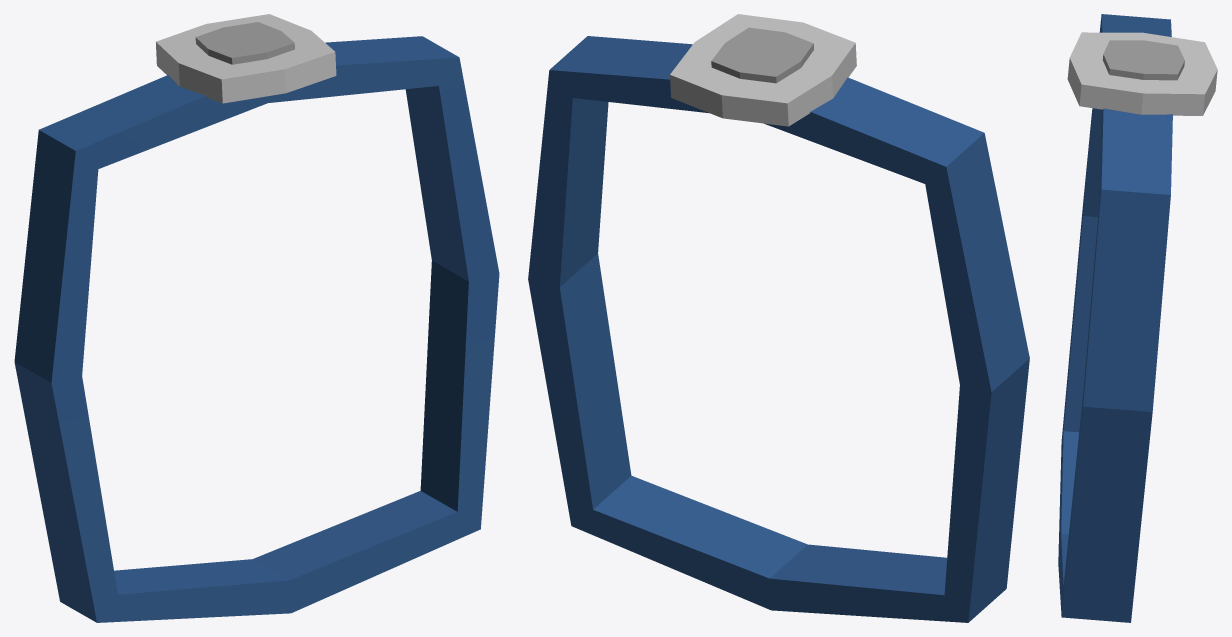
File: Head Mirror 01.FBX
The picture shows the model from 3 angles, left to right: view 1: azimuth 30°, elevation 25°; view 2: azimuth 150°, elevation 25°; view 3: azimuth 270°, elevation 25°; orthographic projection. The views are drawn at different scales.
Visible parts, largest first — view 1: Head Mirror 01; view 2: Head Mirror 01; view 3: Head Mirror 01.
Boxes of the visible parts, box(x1,y1,x2,y2) form: Head Mirror 01: box(14, 14, 499, 622); Head Mirror 01: box(528, 14, 1029, 622); Head Mirror 01: box(1058, 14, 1217, 622).
Size of the model in its own units: 69.54 by 81.48 by 22.85.
Materials: 1 (1 with a texture image).
